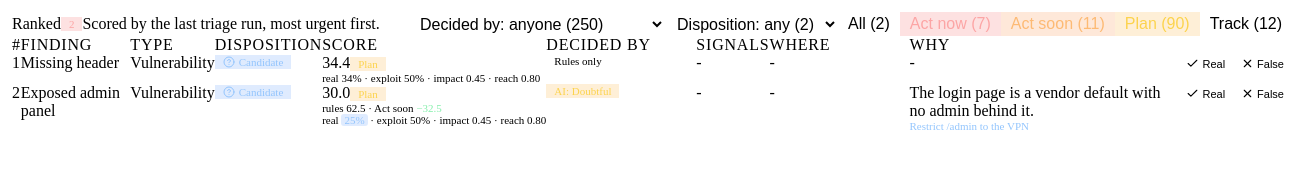
the Decided by filter is applied by the server › picking a choice re-fetches with the filter, and the menu shows uncapped counts
Expected: the text "AI: Doubtful" is shown, x1=546 y1=84 x2=619 y2=98
Select "You (3)" in the dropdown named "Decided by" at (536, 24), box x1=408 y1=12 x2=665 y2=36
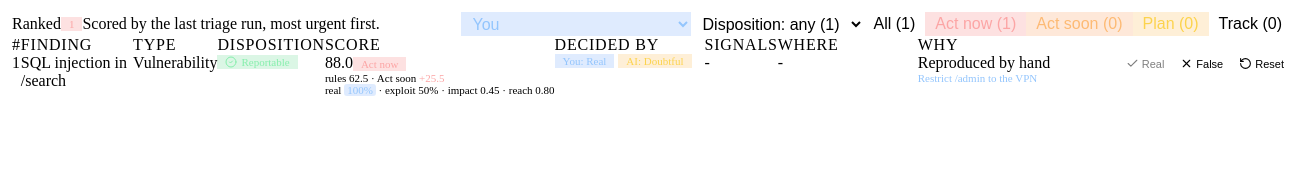
Now the text "You: Real" is shown, box x1=554 y1=54 x2=614 y2=68
Now the button "Exposed admin panel" is gone
Now the button "Missing header" is gone
